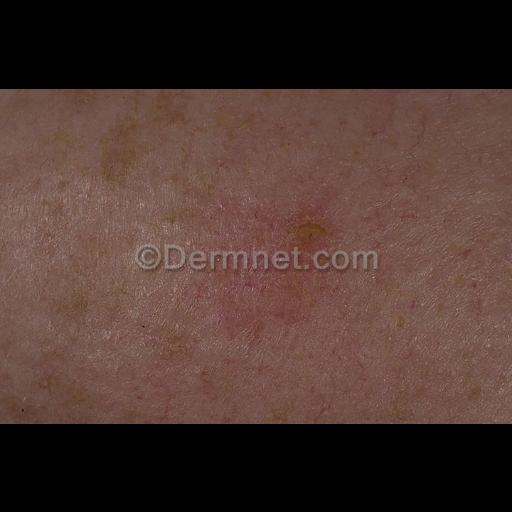Skin_Lesion: (258, 198, 340, 250), (192, 266, 224, 306)
